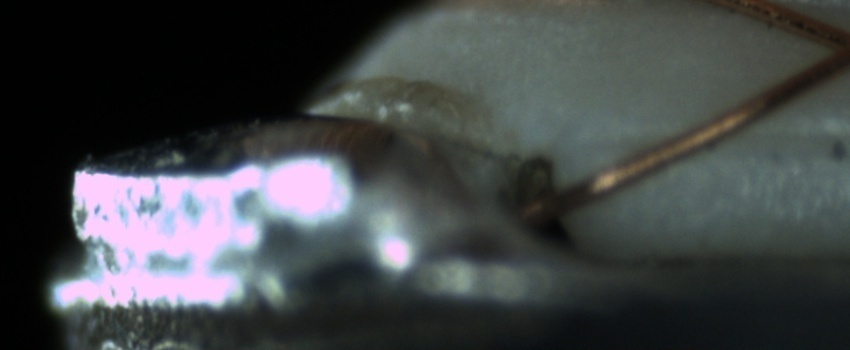CL: (805, 13, 850, 80)
DL: (620, 102, 849, 174)
